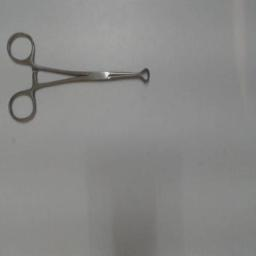Babcock Tissue Forceps: (4, 28, 152, 124)
